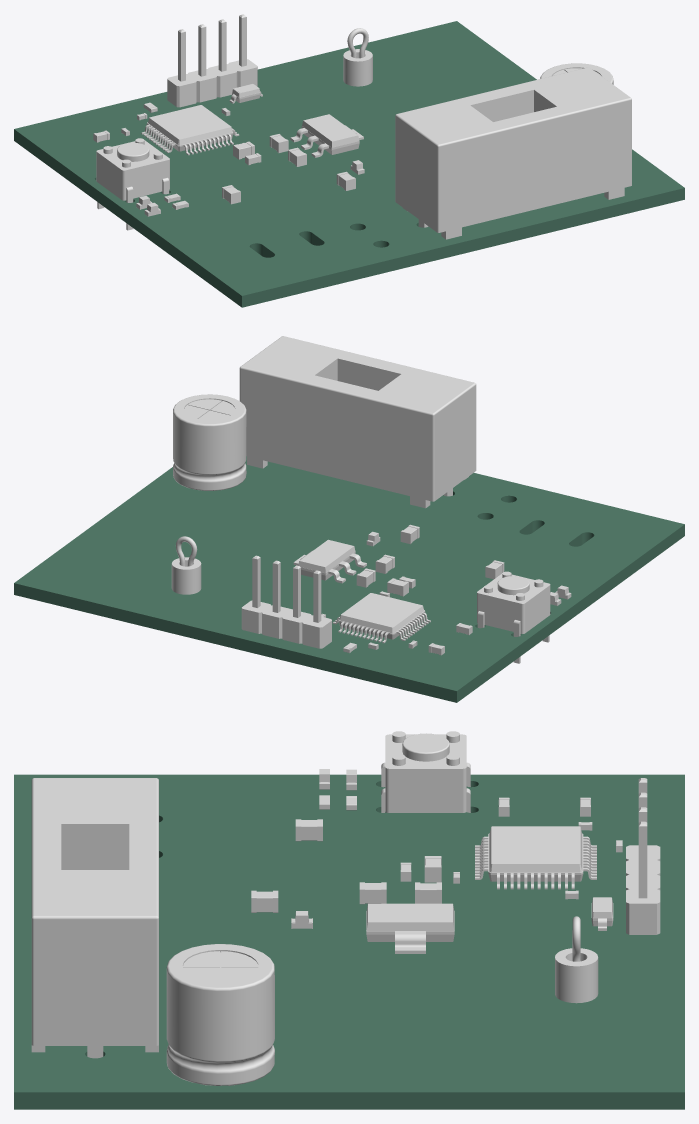
The model's file is ECAD_main-3D.glb.
The picture shows the model from 3 angles, top to bottom: view 1: azimuth 30°, elevation 25°; view 2: azimuth 150°, elevation 25°; view 3: azimuth 270°, elevation 25°; orthographic projection. The views are drawn at different scales.
Visible parts, largest first — view 1: =>[0:1:1:21], F1, J1, SW1, U1, U2, TP3, C10, D1; view 2: =>[0:1:1:21], F1, C10, J1, SW1, U1, U2, TP3; view 3: =>[0:1:1:21], F1, C10, SW1, U1, U2, J1, TP3, D1, C15, C12, C14 (+1 smaller).
Boxes of the visible parts, x1,y1,x2,y2 form: =>[0:1:1:21]: [14, 21, 684, 307]; F1: [395, 67, 631, 239]; J1: [167, 14, 257, 107]; SW1: [96, 138, 169, 230]; U1: [141, 105, 239, 155]; U2: [290, 114, 363, 157]; TP3: [343, 28, 372, 86]; C10: [540, 63, 613, 84]; D1: [229, 84, 262, 103]; =>[0:1:1:21]: [14, 456, 684, 702]; F1: [239, 336, 476, 508]; C10: [173, 394, 246, 490]; J1: [241, 555, 331, 648]; SW1: [477, 571, 550, 663]; U1: [332, 593, 430, 643]; U2: [293, 539, 366, 583]; TP3: [171, 536, 201, 594]; =>[0:1:1:21]: [14, 774, 684, 1109]; F1: [31, 778, 158, 1058]; C10: [166, 944, 274, 1085]; SW1: [381, 731, 470, 812]; U1: [475, 826, 596, 889]; U2: [366, 903, 454, 953]; J1: [626, 778, 660, 934]; TP3: [555, 916, 598, 1003]; D1: [591, 897, 613, 930]; C15: [251, 890, 278, 912]; C12: [295, 819, 322, 841]; C14: [359, 882, 386, 904].
Bounding box in the file's own units: 0.0555 × 0.0153 × 0.0495.
